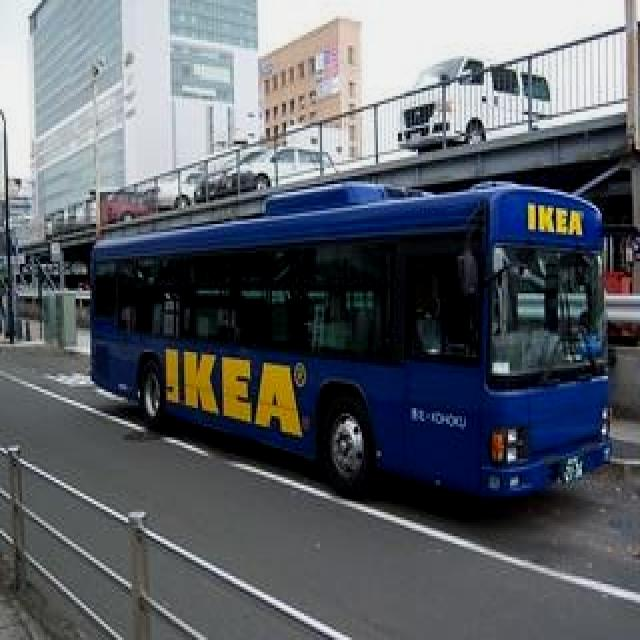Bus: (83, 176, 618, 511)
